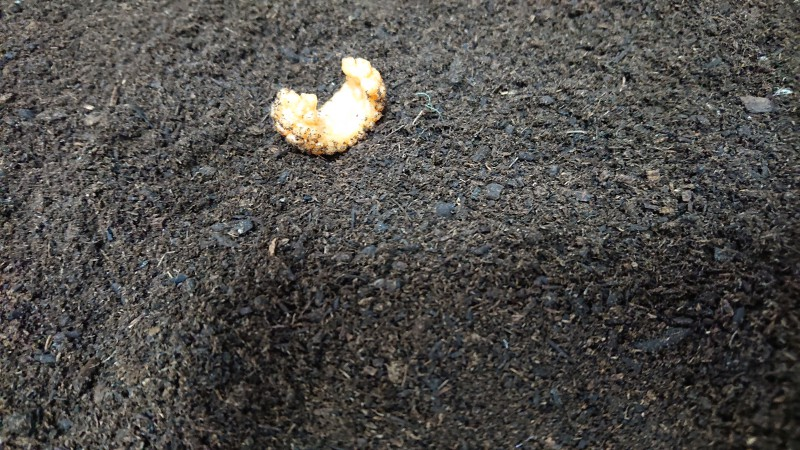eggs: (269, 52, 393, 158)
